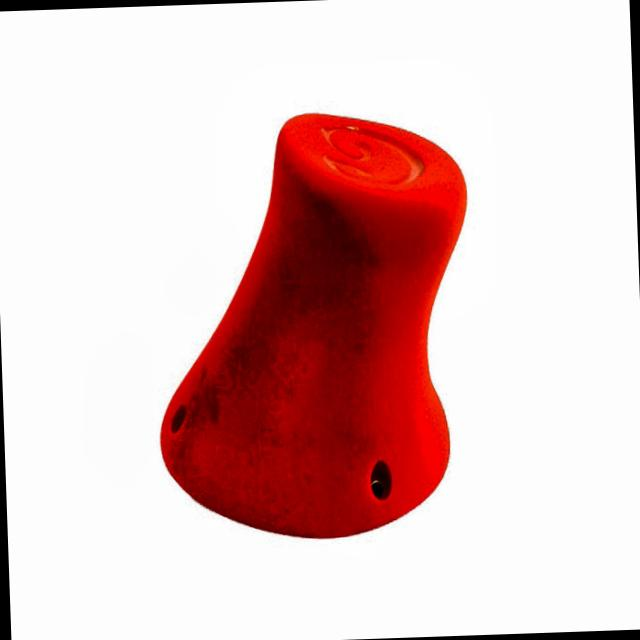Hold: (134, 105, 480, 544)
